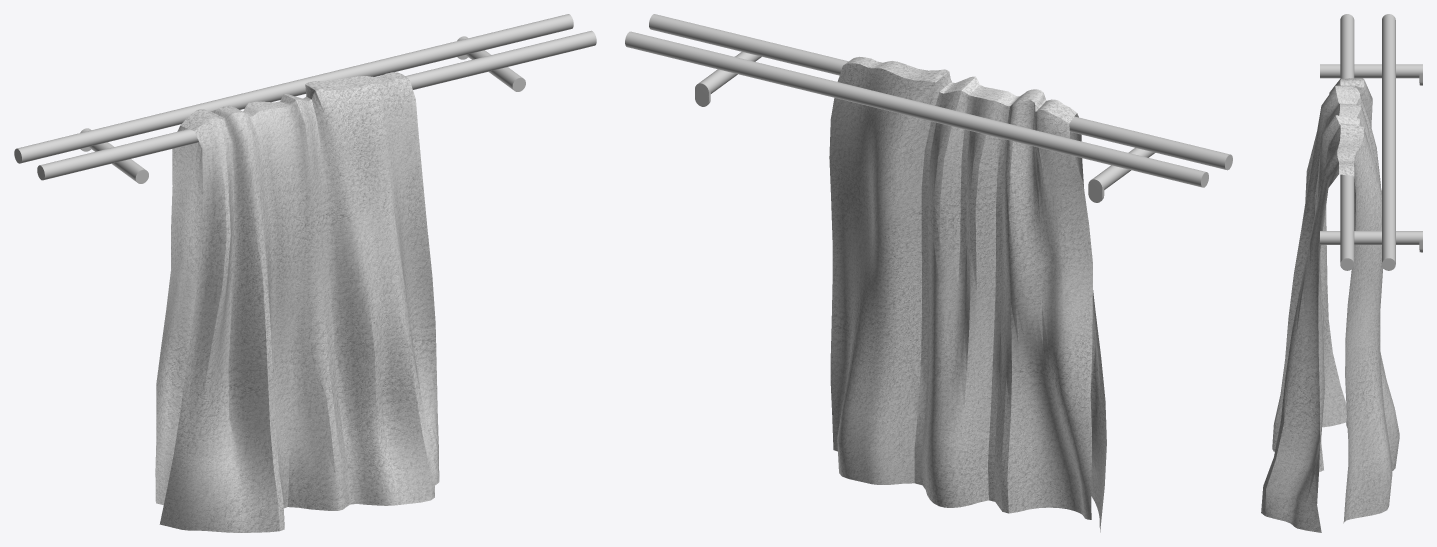
Rendered from sh_scopia_com_bath3.glb.
3 renders of one model, left to right at view 1: azimuth 30°, elevation 25°; view 2: azimuth 150°, elevation 25°; view 3: azimuth 270°, elevation 25°, orthographic. The views are drawn at different scales.
Size of the model in its own units: 0.6 by 0.418 by 0.168.
Materials: 2 (1 with a texture image).
